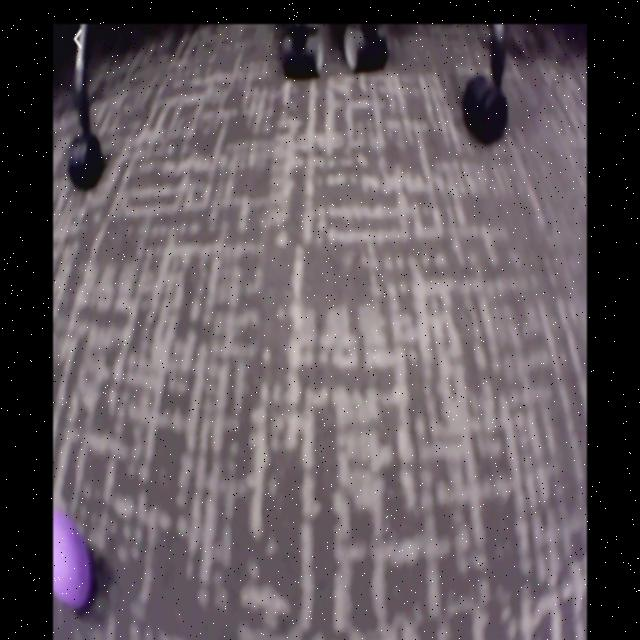ball: (56, 511, 96, 613)
